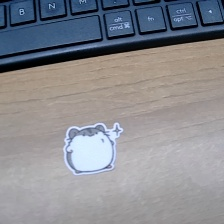mouse: (61, 122, 125, 175)
